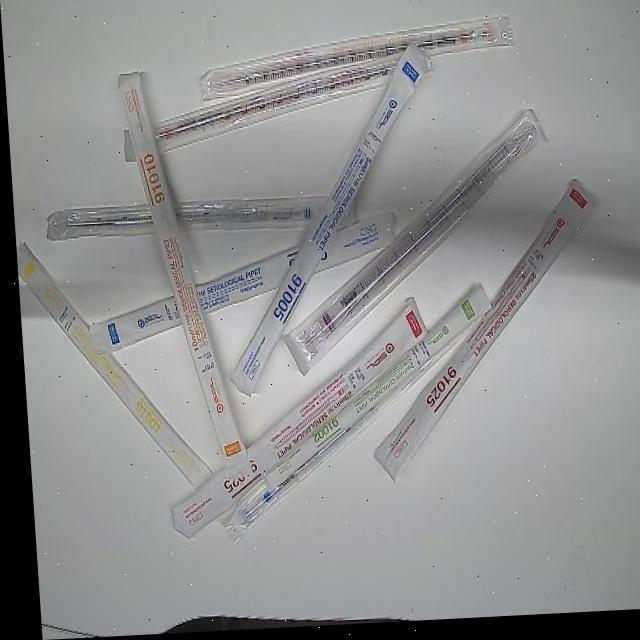Serelogical Pipet 1 mL - Sealed: (12, 230, 212, 499)
Serelogical Pipet 10 mL - Sealed: (114, 68, 250, 485), (115, 48, 438, 166), (183, 16, 517, 106)
Serelogical Pipet 2 mL - Sealed: (246, 284, 498, 497)
Serelogical Pipet 25 mL - Sealed: (352, 180, 608, 489), (149, 301, 437, 544)
Serelogical Pipet 5 mL - Sealed: (205, 45, 451, 402), (203, 318, 485, 546), (77, 214, 402, 358), (40, 195, 358, 245)
Serelogical Pipet 50 mL - Sealed: (266, 112, 562, 380)
